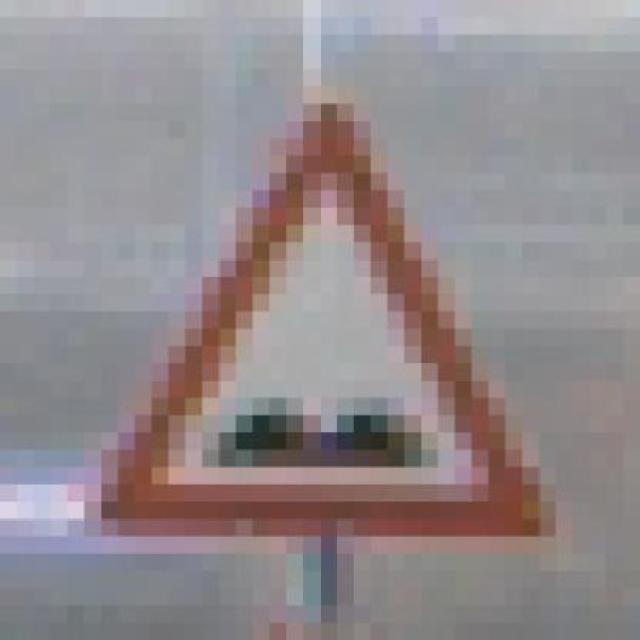Uneven Road: (90, 71, 562, 555)
